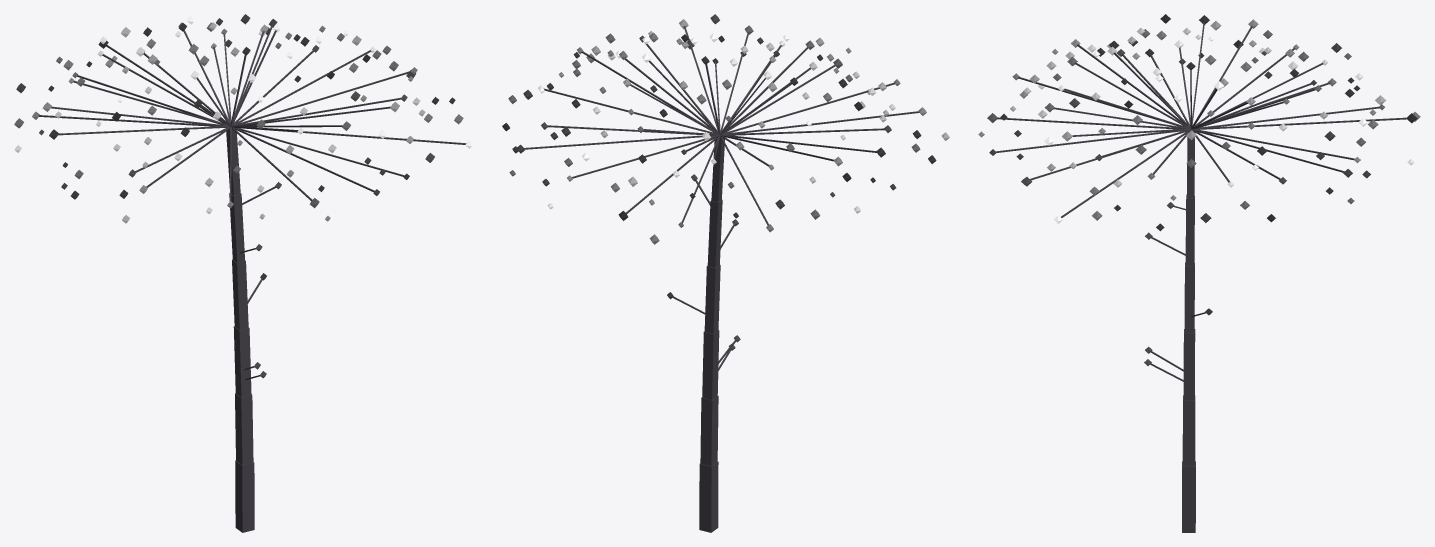
File: umbel_tree_a.glb
3 renders of one model, left to right at view 1: azimuth 30°, elevation 25°; view 2: azimuth 150°, elevation 25°; view 3: azimuth 270°, elevation 25°, orthographic. The views are drawn at different scales.
Visible parts, largest first — view 1: umbel_tree_a; view 2: umbel_tree_a; view 3: umbel_tree_a.
Boxes of the visible parts, x1,y1,x2,y2 form: umbel_tree_a: (14, 14, 473, 532); umbel_tree_a: (502, 14, 949, 532); umbel_tree_a: (978, 14, 1420, 532).
Bounding box in the file's own units: 9.42 × 11.36 × 9.66.
2 materials, 1 textured.
